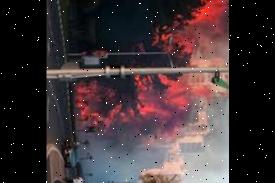fire: (74, 77, 196, 148), (127, 0, 228, 63)
